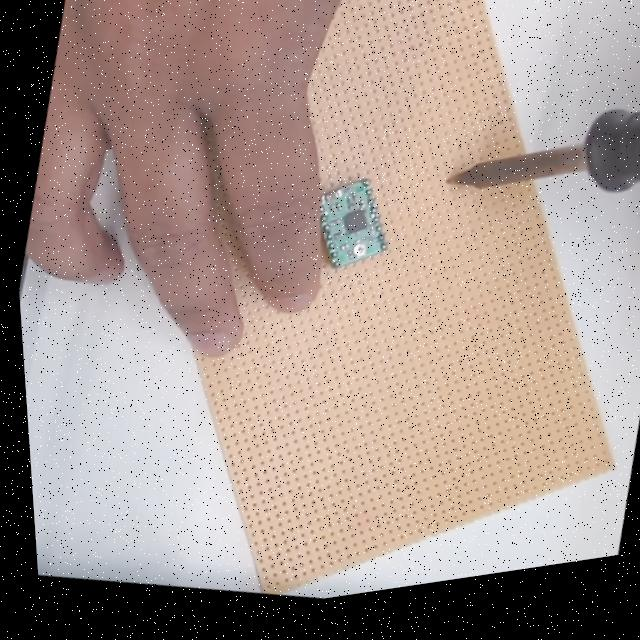Chip: (307, 162, 406, 283)
soldering_iron: (436, 53, 640, 242)
